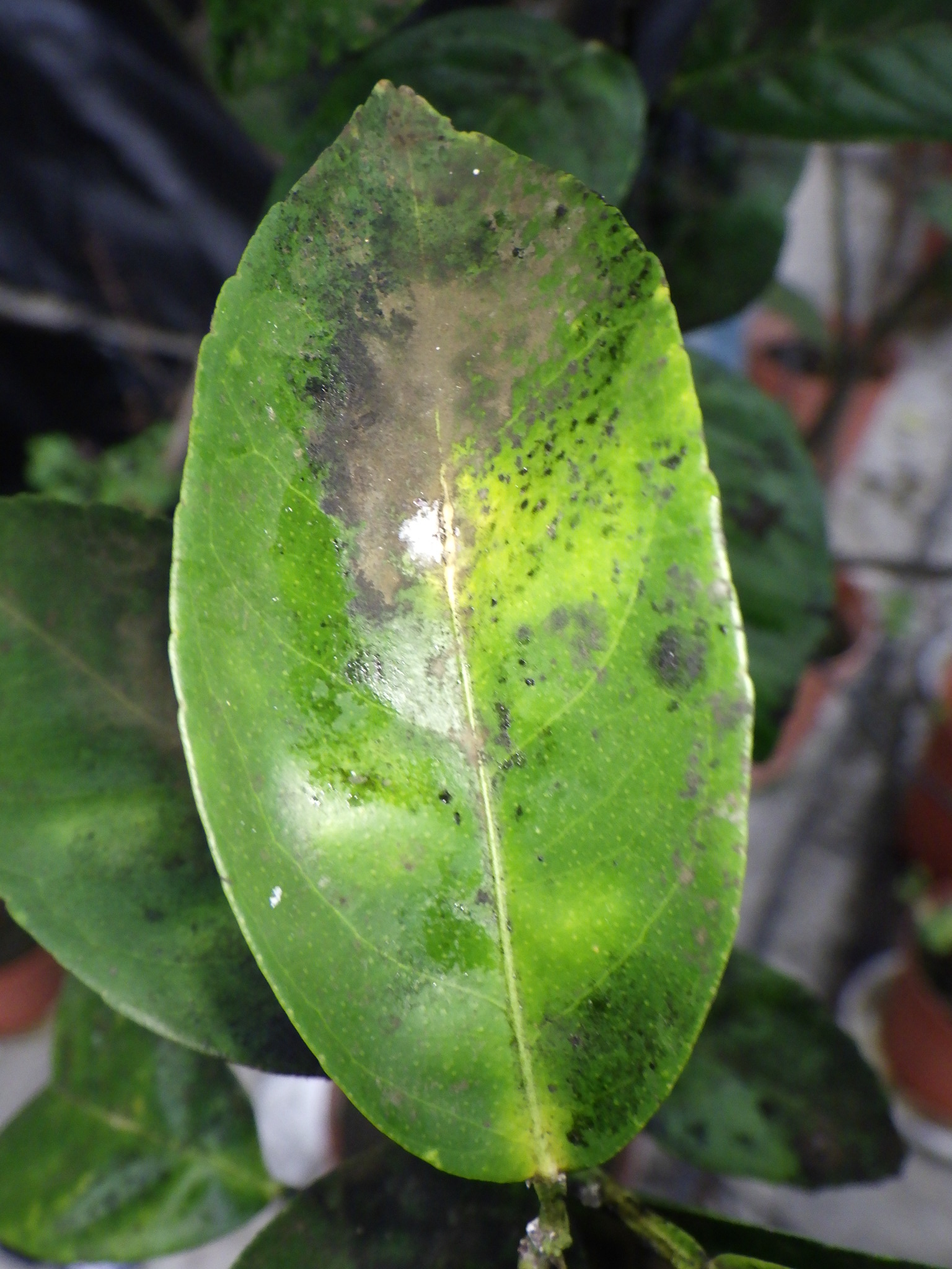Sooty_Mold: (170, 81, 752, 1180)
